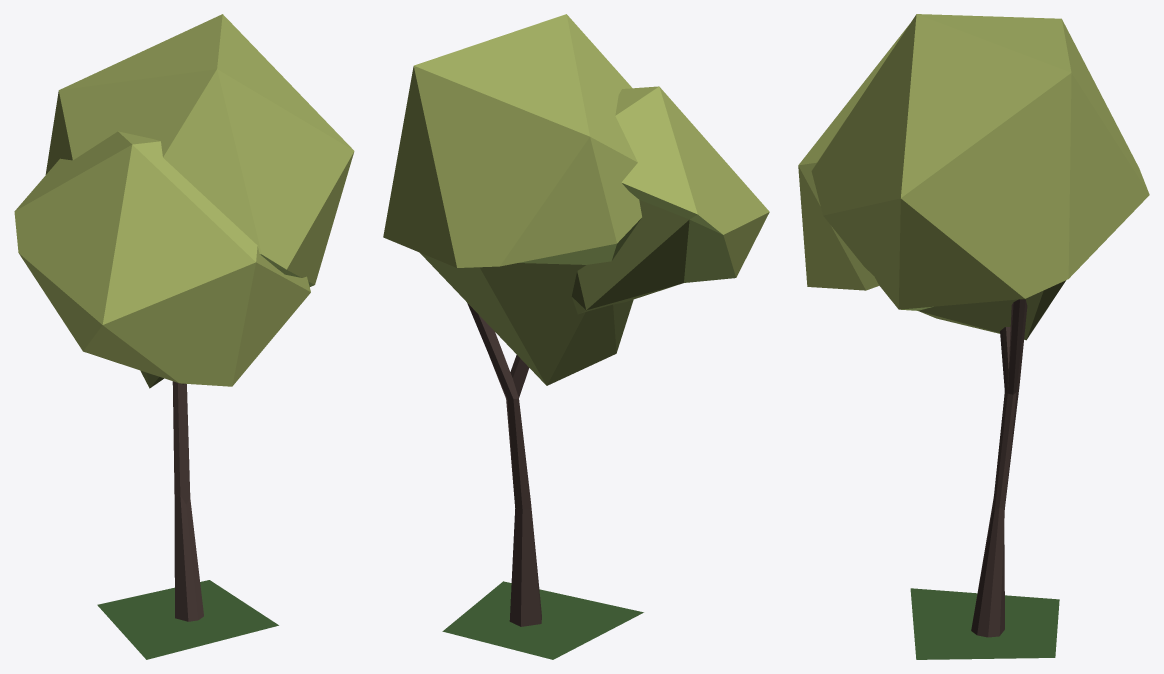
File: SM_Tree_01.fbx
3 renders of one model, left to right at view 1: azimuth 30°, elevation 25°; view 2: azimuth 150°, elevation 25°; view 3: azimuth 270°, elevation 25°, orthographic. The views are drawn at different scales.
Visible parts, largest first — view 1: SM_Tree_01; view 2: SM_Tree_01; view 3: SM_Tree_01.
Part boxes in pixels (<box>): SM_Tree_01: <box>14,14,354,659</box>; SM_Tree_01: <box>383,14,769,659</box>; SM_Tree_01: <box>798,14,1149,659</box>.
Size of the model in its own units: 436 by 787 by 404.
1 material, 1 textured.
